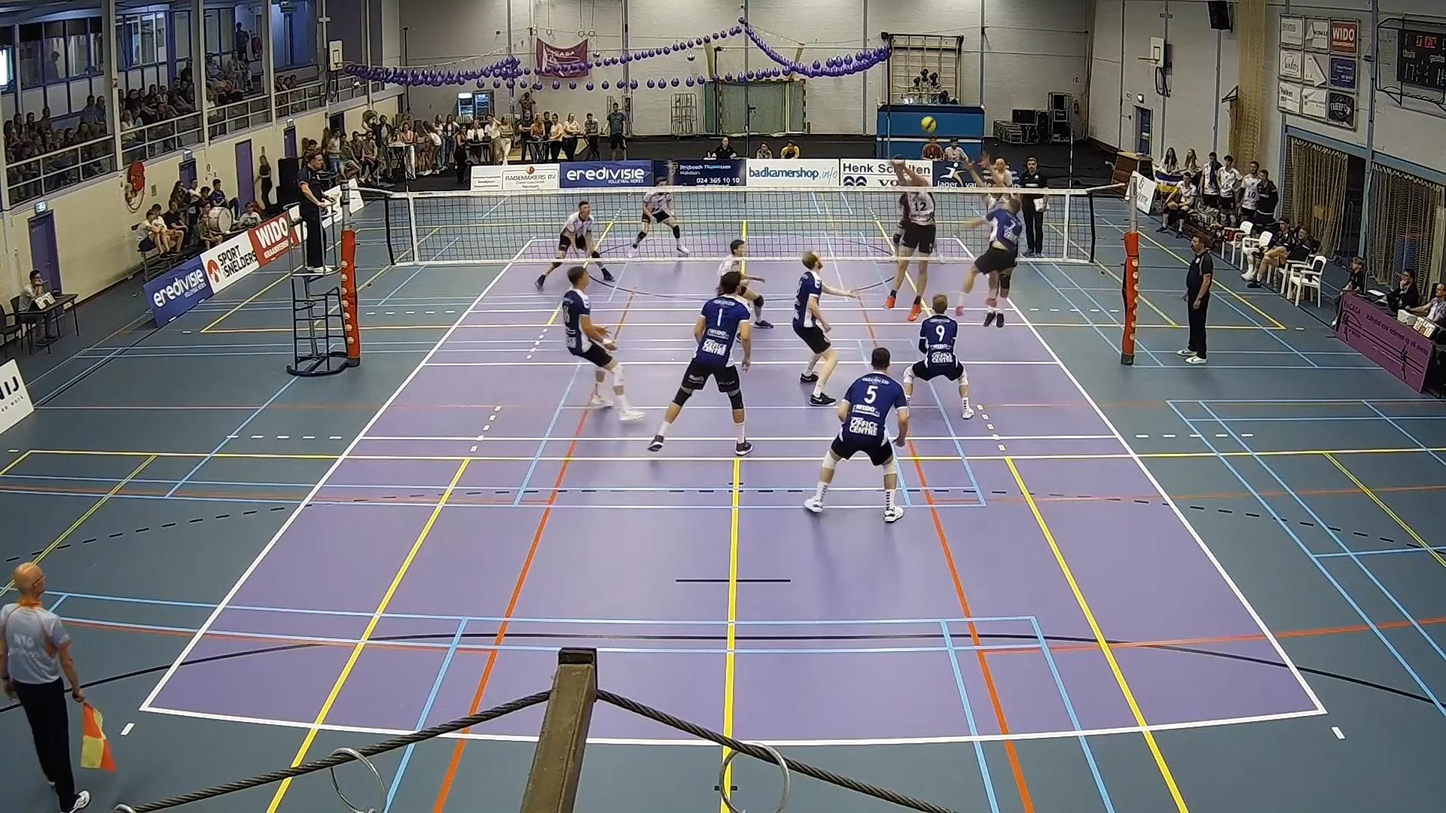attacco: (956, 179, 1047, 325)
muro: (880, 156, 935, 324), (965, 152, 1021, 218)
